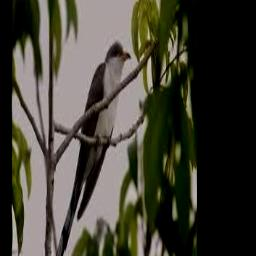Cuckoo: (54, 40, 131, 256)
